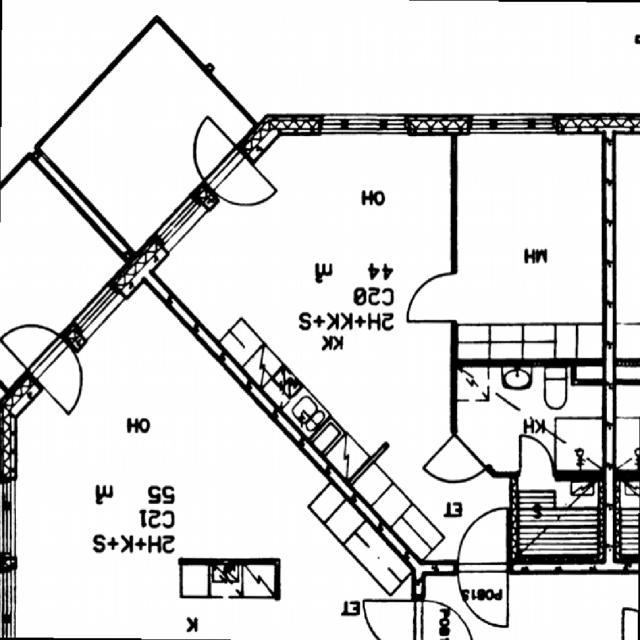door: (172, 111, 253, 199), (204, 146, 284, 234), (421, 430, 488, 502), (458, 560, 507, 627), (458, 507, 507, 574), (407, 273, 456, 321), (520, 434, 552, 480)
